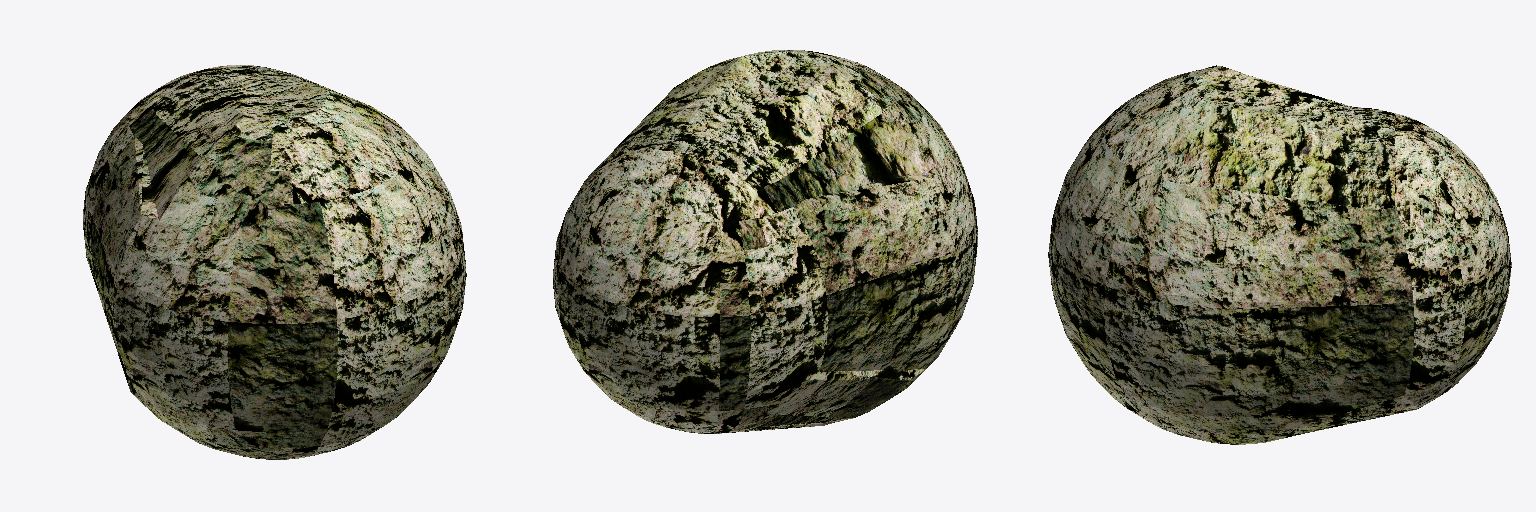
The picture shows the model from 3 angles: view 1: azimuth 30°, elevation 25°; view 2: azimuth 150°, elevation 25°; view 3: azimuth 270°, elevation 25°; orthographic projection.
Parts seen in each view (by area): view 1: Sphere_Sphere.005; view 2: Sphere_Sphere.005; view 3: Sphere_Sphere.005.
Part boxes in pixels (x1,y1,x2,y2): Sphere_Sphere.005: (83,65,466,459); Sphere_Sphere.005: (553,50,977,433); Sphere_Sphere.005: (1048,65,1511,444).
Size of the model in its own units: 2.41 by 2.39 by 2.94.
1 materials, 1 textured.